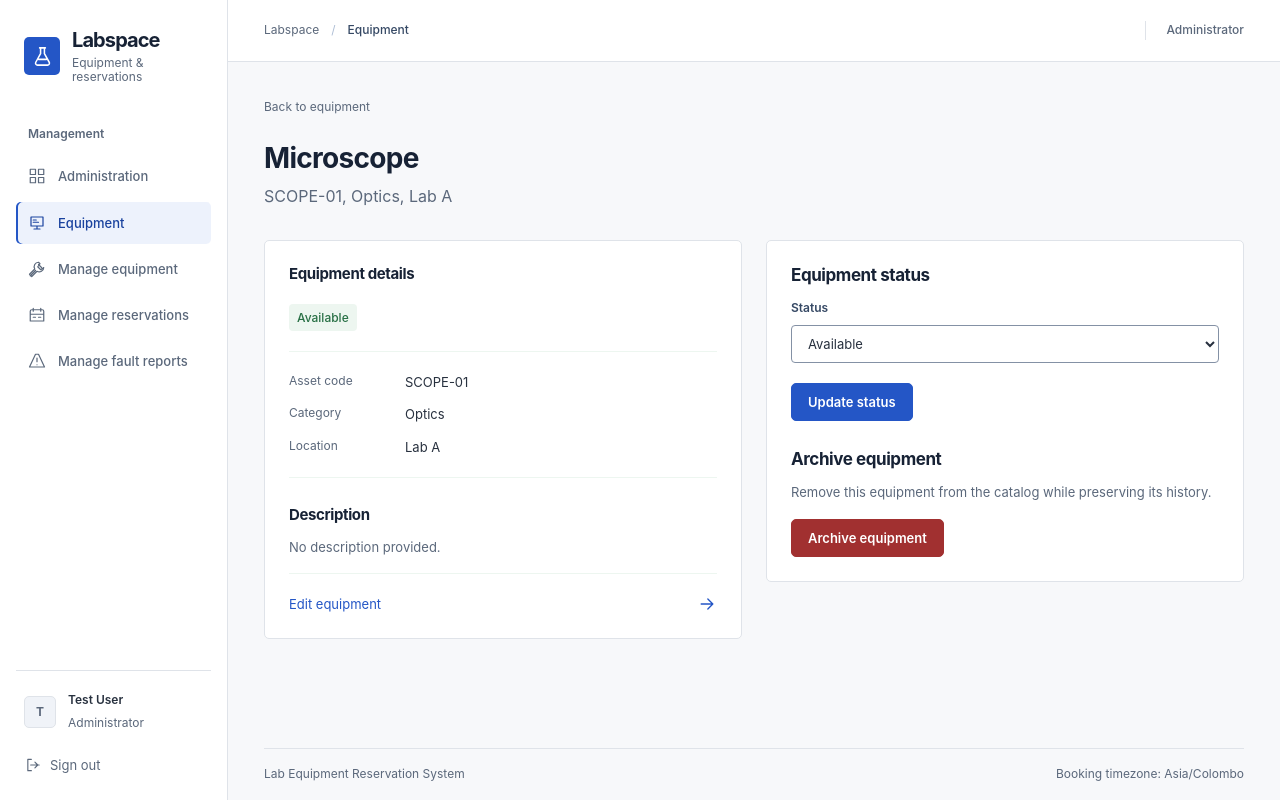
Test: non-available status needs a reason and cancellation confirmation before any mutation
Expected: the heading "Microscope" is shown, top-left (264, 141), bottom-right (419, 175)
Select "Maintenance" in the dropdown labelled "Status" at (1005, 344), box top-left (791, 325), bottom-right (1219, 363)
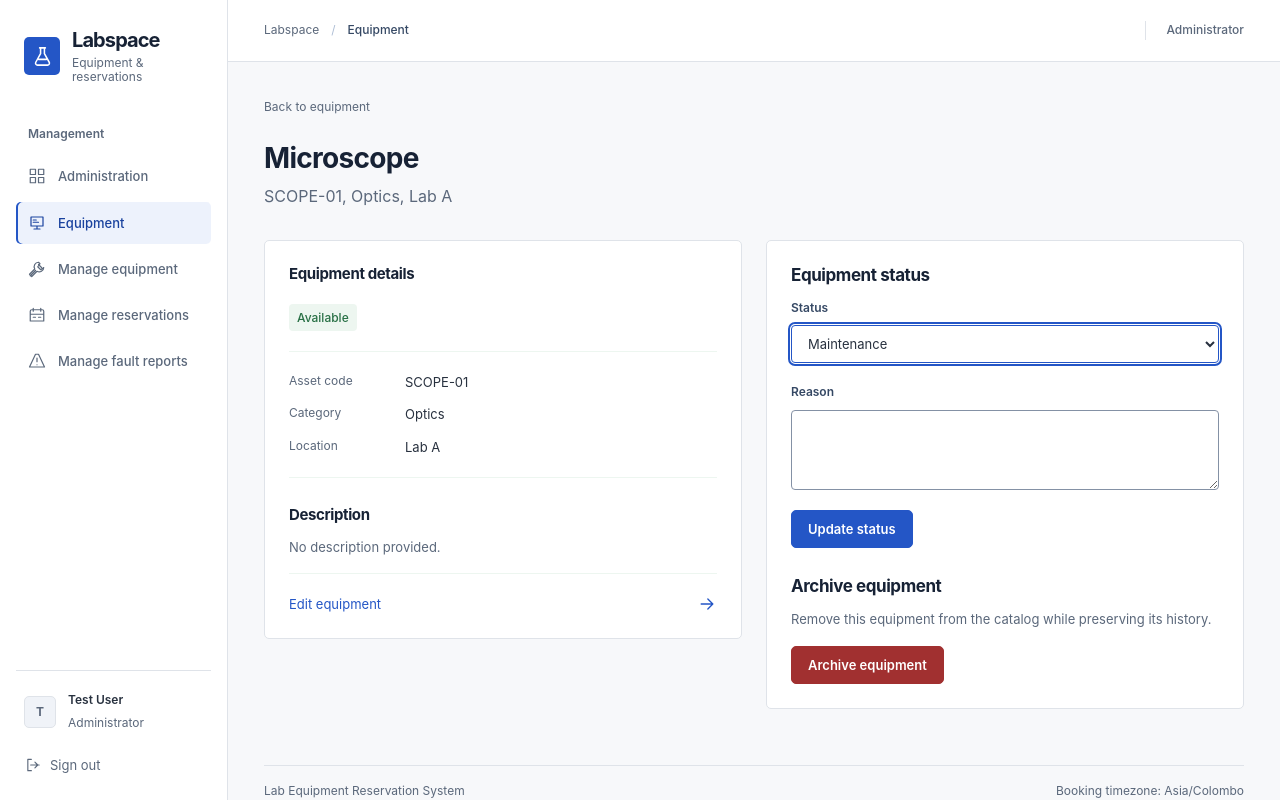
Click the button "Update status".
click(852, 529)  # box top-left (791, 510), bottom-right (913, 548)
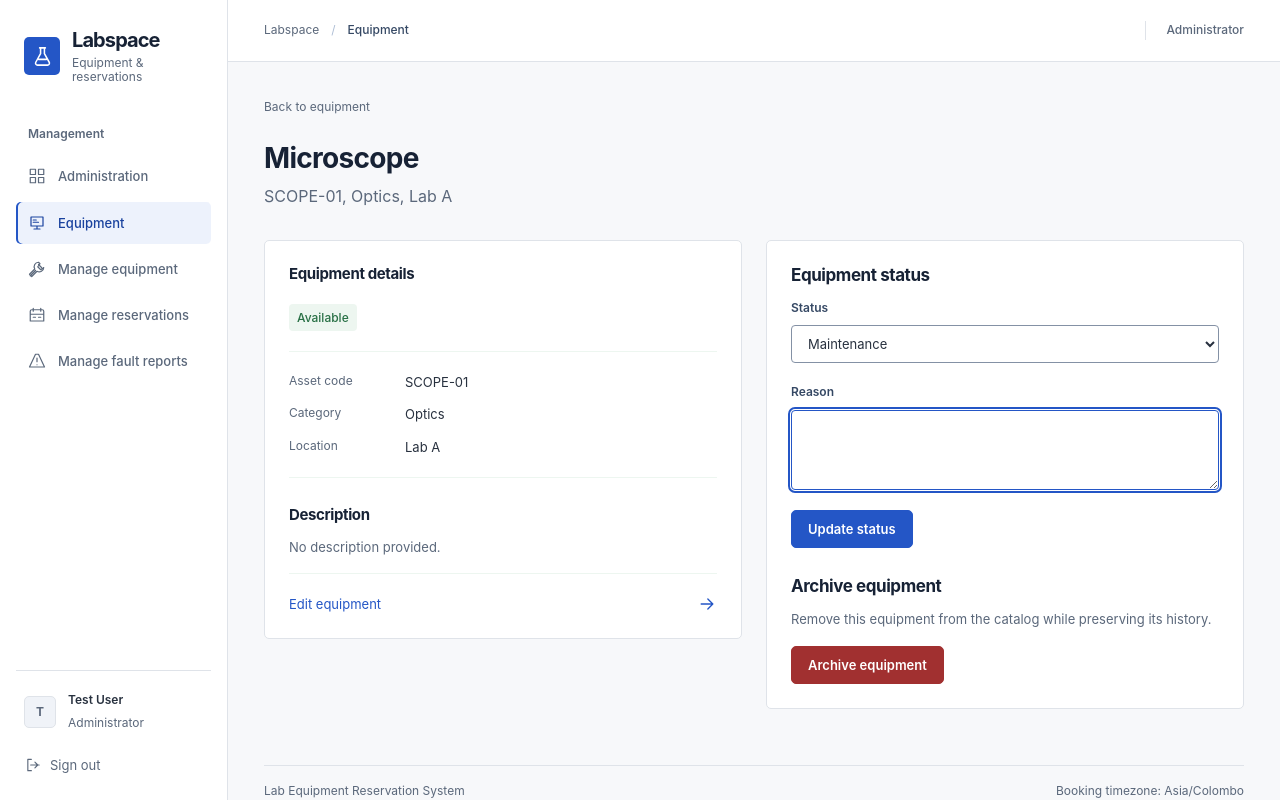
Type "Calibration" into the text box labelled "Reason".
click(1005, 450); type("Calibration")  # box top-left (791, 410), bottom-right (1219, 490)
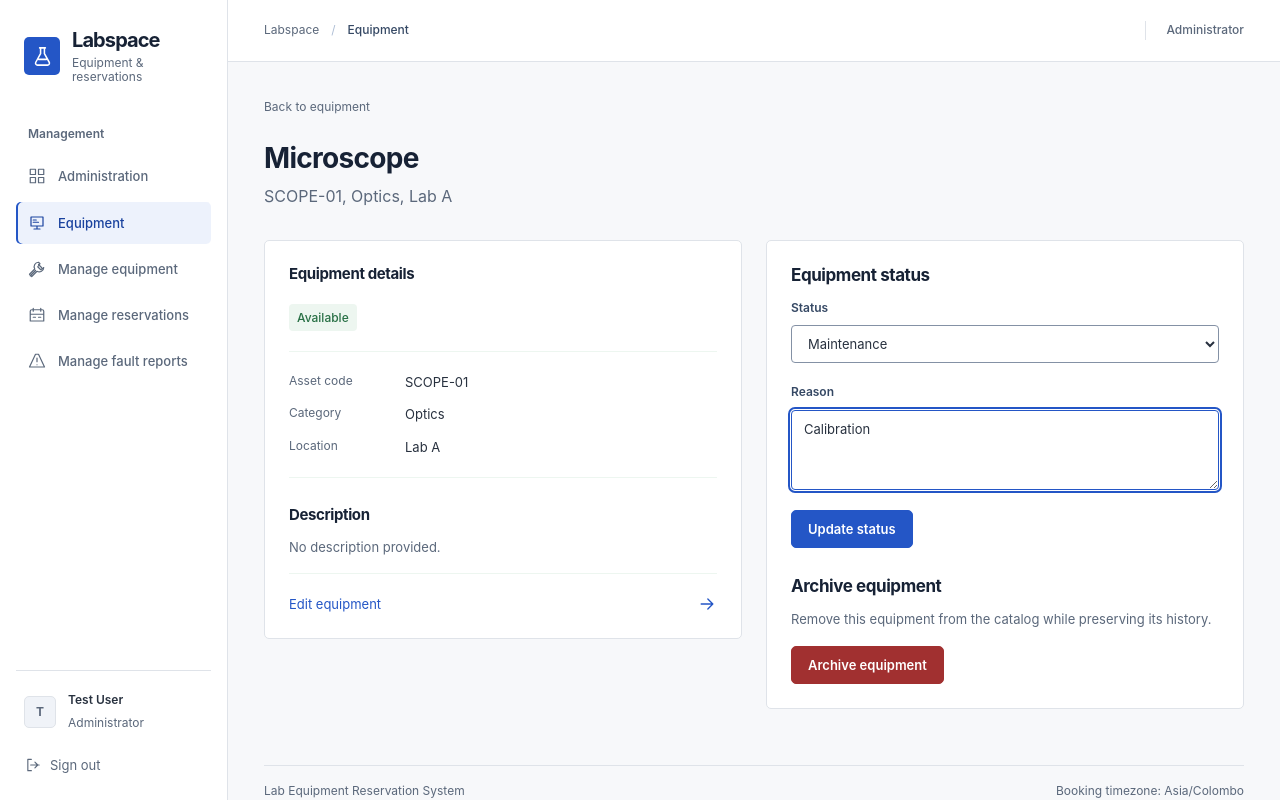
Click the button "Update status".
click(852, 529)  # box top-left (791, 510), bottom-right (913, 548)
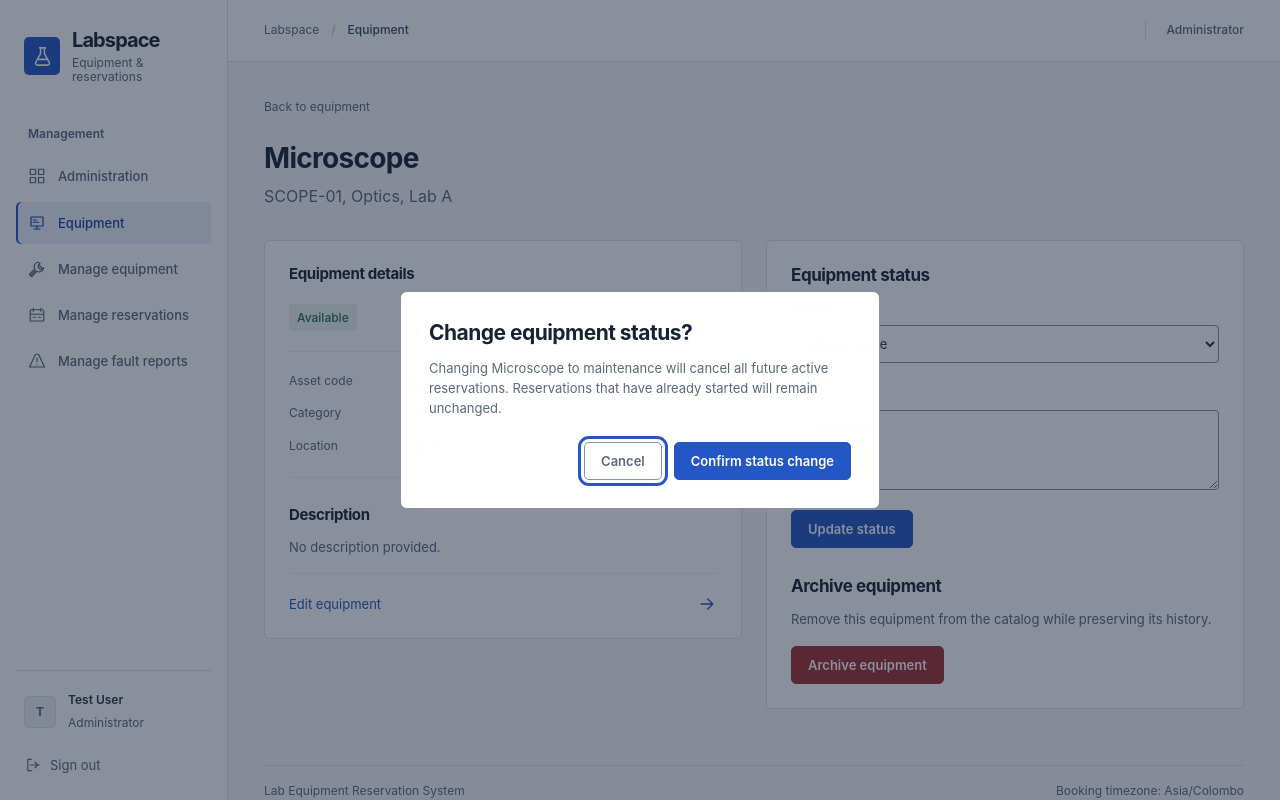
Expected: the text "will cancel all future active reservations" is shown, top-left (429, 360), bottom-right (828, 416)
Click the button "Cancel".
click(623, 461)  # box top-left (584, 442), bottom-right (662, 480)
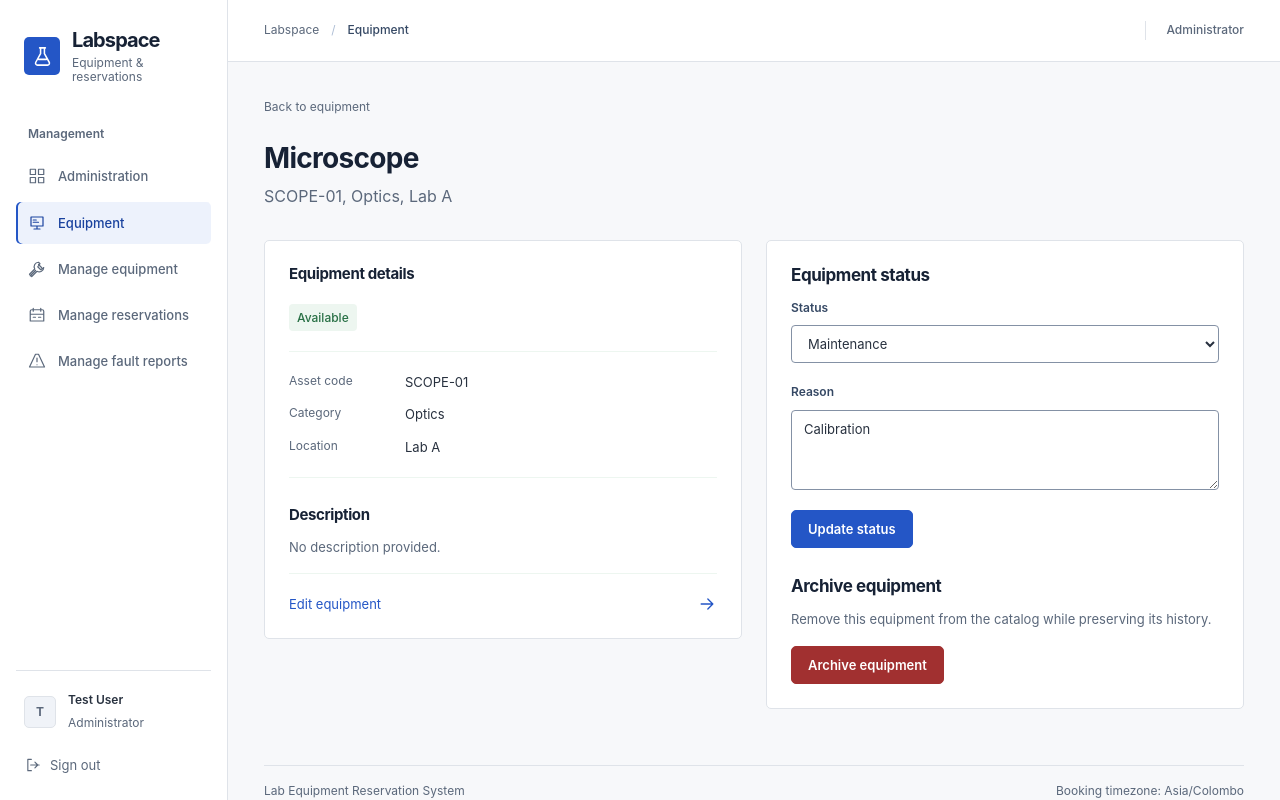
Expected: the dialog is gone
